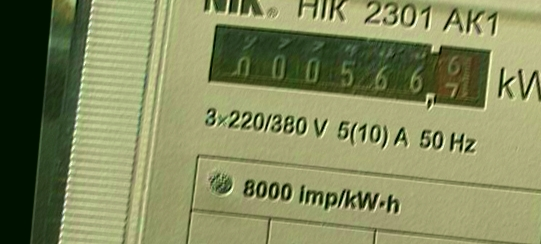0: (300, 56, 321, 86), (266, 52, 286, 82), (230, 53, 251, 78)
5: (335, 59, 355, 90)
6: (403, 63, 425, 96), (368, 63, 389, 93), (443, 54, 461, 80)
7: (440, 82, 458, 101)
9: (237, 32, 256, 53)
screen: (196, 16, 495, 119)
